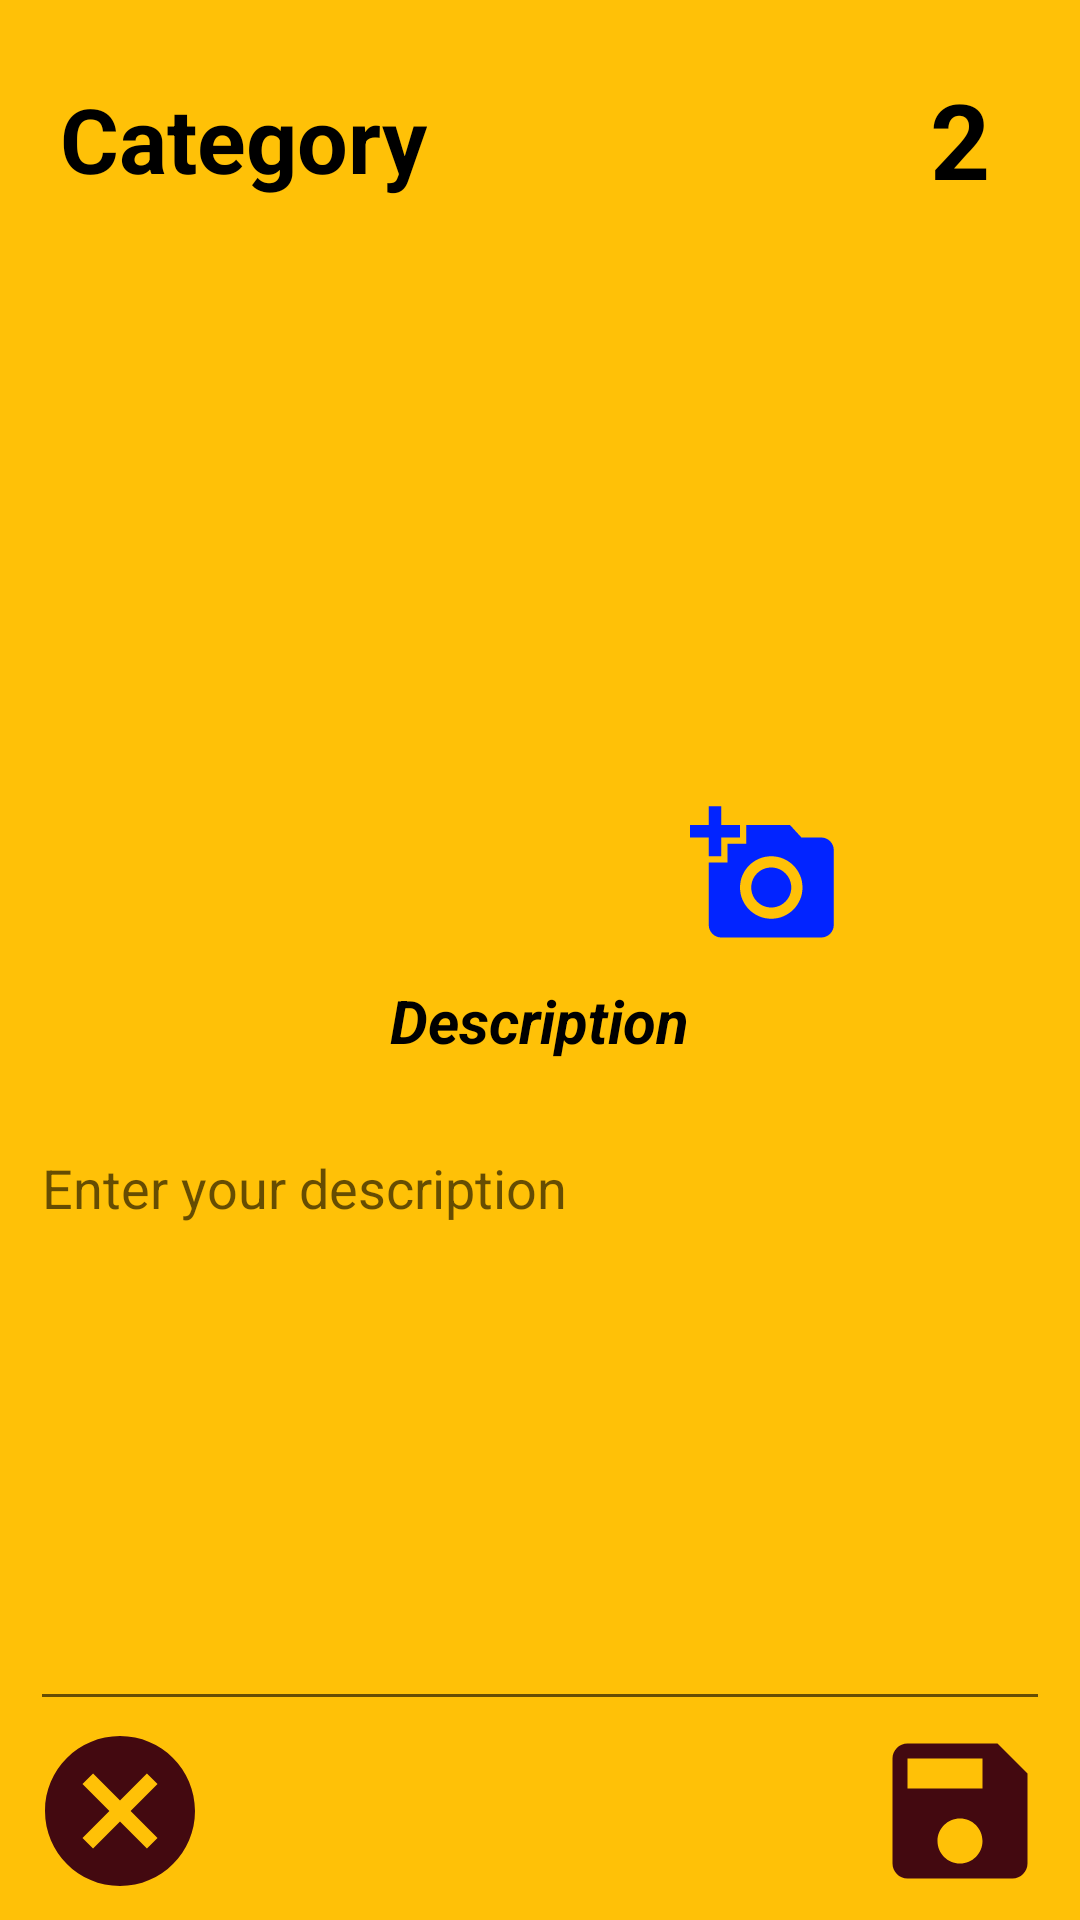

Named icons in this screenshot (1080*1920) and their centers, point (x, y):
add photo: point (762, 872)
cancel: point (120, 1811)
save: point (960, 1811)
